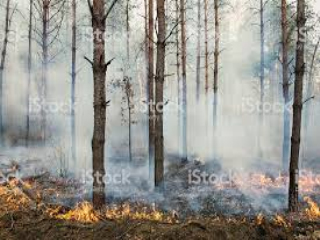fire: (20, 184, 169, 225), (257, 190, 320, 226), (225, 167, 319, 188)
smoke: (12, 51, 117, 175), (173, 63, 291, 162)
